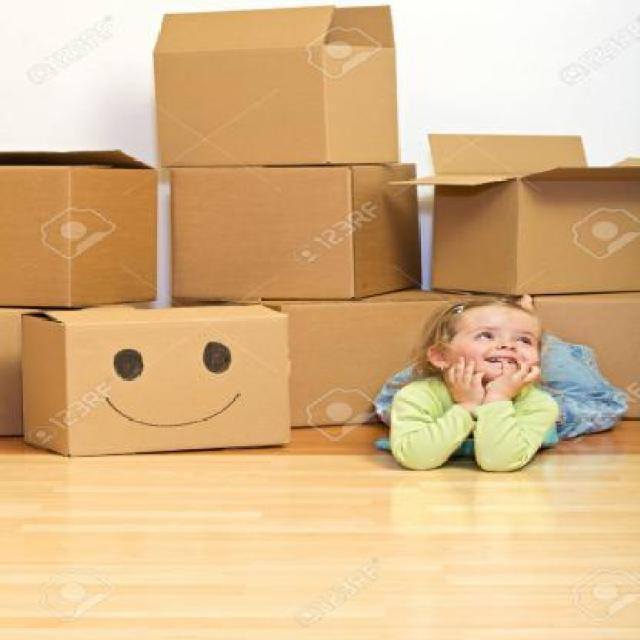box: (21, 304, 294, 458), (151, 7, 397, 165), (407, 132, 640, 296), (168, 161, 423, 300), (271, 286, 468, 432), (0, 147, 160, 306), (517, 292, 640, 420)
